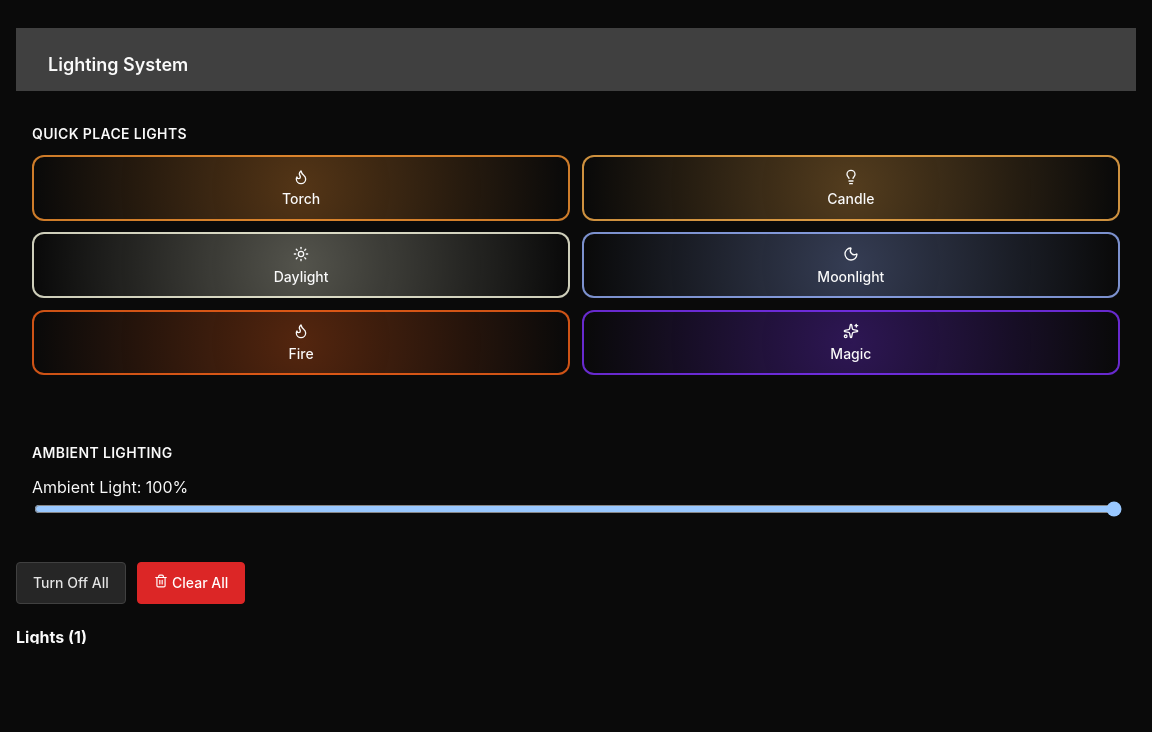
LightingPanel › with lights in store › removes cleared lights from the client store immediately
Click the button "Clear All" at (191, 582), box left=137, top=562, right=245, bottom=604
(page scrolled)
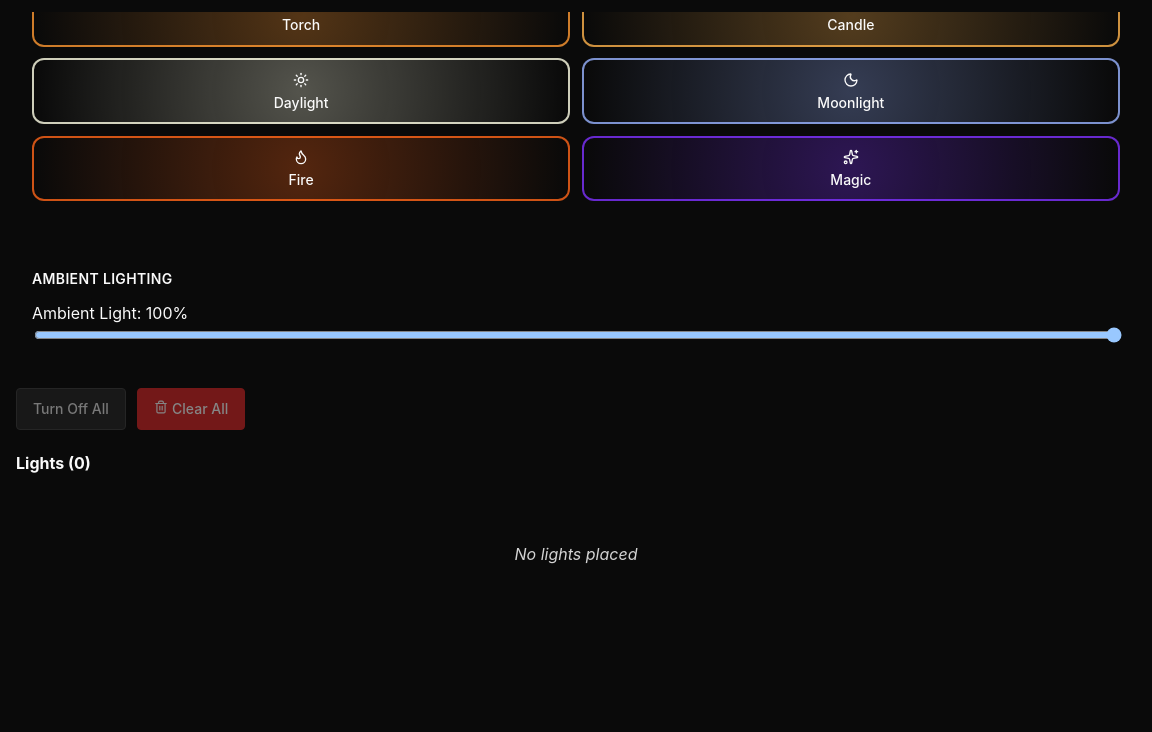
Check: the text "No lights placed" is shown, box left=514, top=544, right=637, bottom=564
